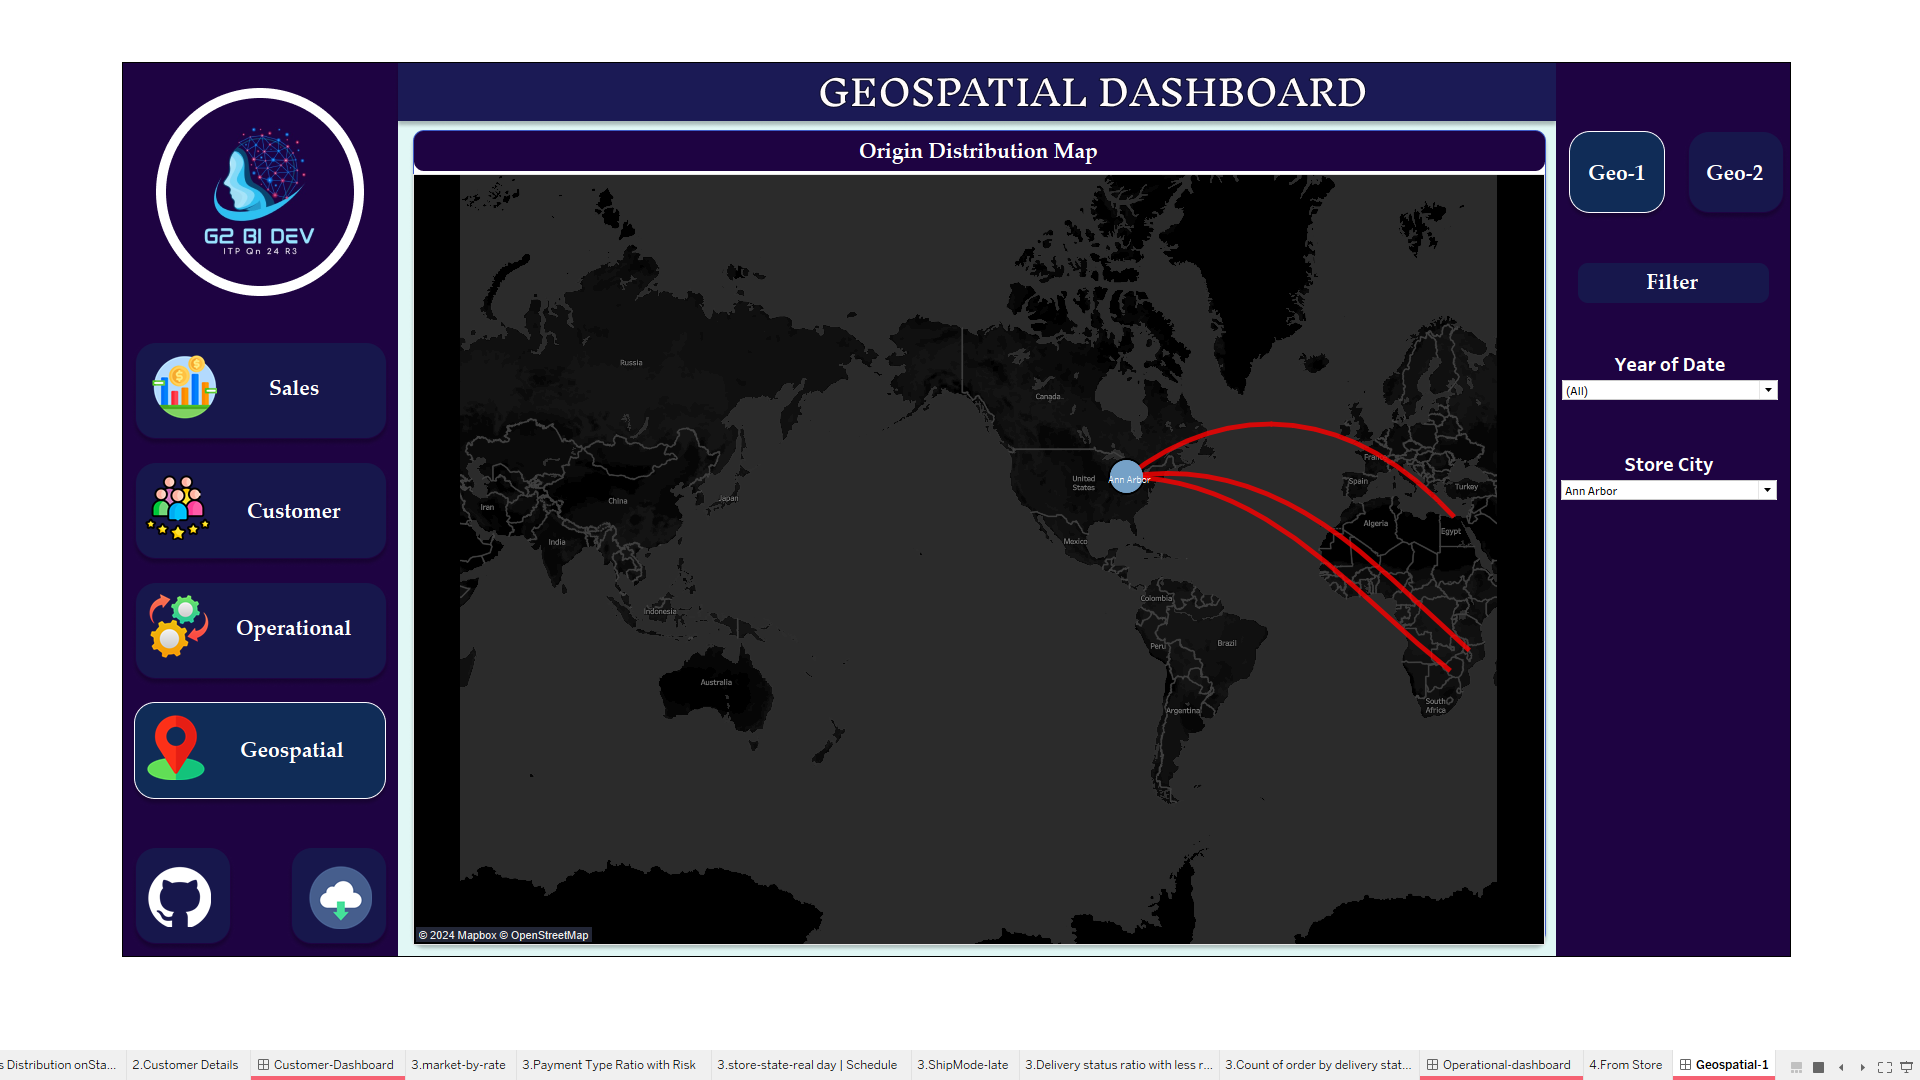

What the dashboard file says about the page in this screenshot:
{"tool":"tableau","page":{"name":"Geospatial-1","canvas":[1700,950],"ordinal":1},"visuals":[{"type":"image","param":"C:/Users/mahmo/OneDrive/Desktop/Sales/background/New folder (2)/geo1.png","box":[8,8,1684,934]},{"type":"legend","title":"4.From Store","param":"[federated.0h8n4h00w3b3i416cc0021p1uqi8 (copy 3)].[sum:Calculation_2717078005220","box":[878,81,140,76]},{"type":"currpage","title":"4.From Store","box":[1098,85,537,72]},{"type":"filter","title":"4.From Store","param":"[federated.0h8n4h00w3b3i416cc0021p1uqi8 (copy 3)].[none:Store_City:nk]","box":[565,94,265,57]},{"type":"dashboard-object","box":[319,96,77,49]},{"type":"dashboard-object","box":[438,96,77,47]},{"type":"text","box":[668,177,629,36]},{"type":"worksheet","title":"4.From Store","mark":"Automatic","box":[302,217,1362,678]},{"type":"dashboard-object","box":[108,302,153,70]},{"type":"image","param":"C:/Users/mahmo/OneDrive/Desktop/Sales-project/ICONS/sales-dashboard.png","box":[40,304,70,65]},{"type":"image","param":"C:/Users/mahmo/OneDrive/Desktop/Sales-project/ICONS/customer-dashboard.png","box":[33,425,70,65]},{"type":"dashboard-object","box":[108,425,153,70]},{"type":"image","param":"C:/Users/mahmo/OneDrive/Desktop/Sales-project/ICONS/operational-dashboard.png","box":[34,543,70,65]},{"type":"dashboard-object","box":[108,543,153,69]},{"type":"image","param":"C:/Users/mahmo/OneDrive/Desktop/Sales-project/ICONS/geo-dashboard.png","box":[31,665,70,65]},{"type":"dashboard-object","box":[108,665,153,69]},{"type":"image","param":"C:/Users/mahmo/OneDrive/Desktop/Sales-project/ICONS/github-mark-white.png","box":[38,812,63,70]},{"type":"dashboard-object","box":[199,813,63,70]}]}

Visuals, with their boxes on the page's 1700x950 design canvas (x1, y1, x2, y2). These are canvas units, not pixel positions in the 1920x1080 screenshot, which may show the page scaled, cropped or inside an application window:
image: crop(8, 8, 1692, 942)
"4.From Store" legend: crop(878, 81, 1018, 157)
"4.From Store" currpage: crop(1098, 85, 1635, 157)
"4.From Store" filter: crop(565, 94, 830, 151)
dashboard-object: crop(319, 96, 396, 145)
dashboard-object: crop(438, 96, 515, 143)
text: crop(668, 177, 1297, 213)
"4.From Store" worksheet: crop(302, 217, 1664, 895)
dashboard-object: crop(108, 302, 261, 372)
image: crop(40, 304, 110, 369)
image: crop(33, 425, 103, 490)
dashboard-object: crop(108, 425, 261, 495)
image: crop(34, 543, 104, 608)
dashboard-object: crop(108, 543, 261, 612)
image: crop(31, 665, 101, 730)
dashboard-object: crop(108, 665, 261, 734)
image: crop(38, 812, 101, 882)
dashboard-object: crop(199, 813, 262, 883)
